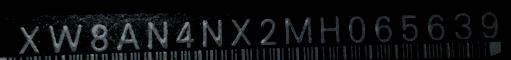letter: (47, 22, 85, 52), (281, 14, 314, 46), (200, 15, 226, 48), (317, 14, 344, 45), (115, 18, 141, 49), (16, 22, 42, 53), (145, 18, 170, 50), (257, 15, 280, 46), (230, 16, 253, 47), (398, 11, 421, 41), (87, 22, 110, 52), (174, 18, 196, 49), (451, 10, 474, 39), (346, 14, 367, 45), (426, 11, 447, 41), (373, 12, 394, 42), (480, 10, 501, 39)
